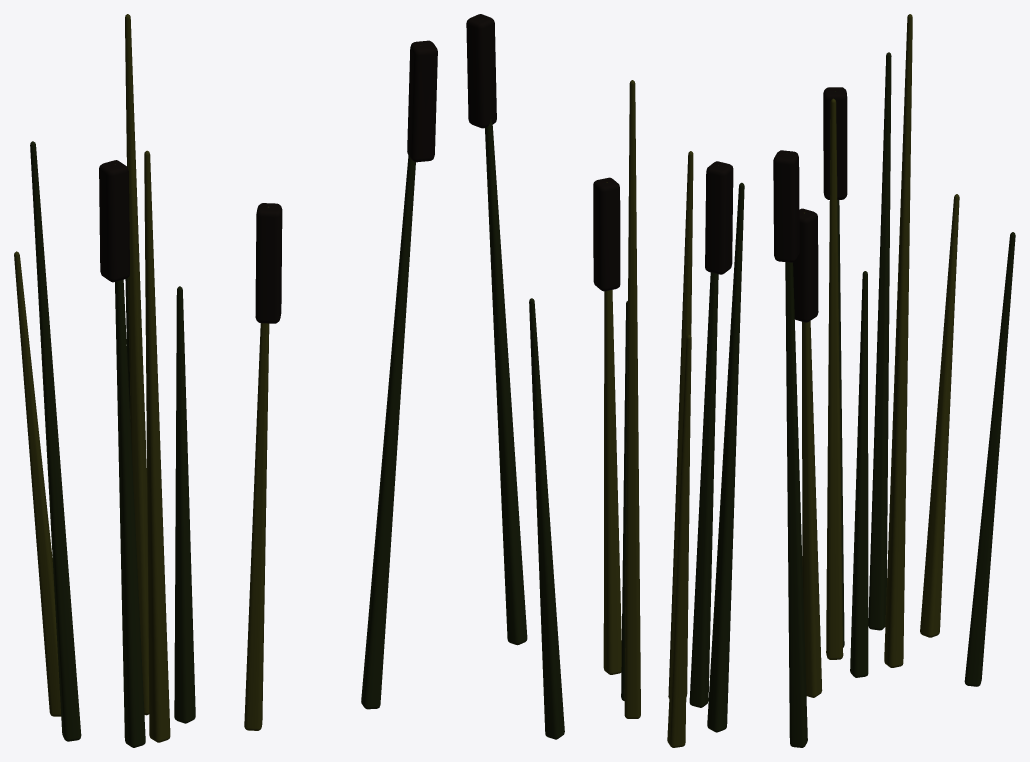
The model's file is Junco.fbx.
3 renders of one model, left to right at view 1: azimuth 30°, elevation 25°; view 2: azimuth 150°, elevation 25°; view 3: azimuth 270°, elevation 25°, orthographic. The views are drawn at different scales.
Parts seen in each view (by area): view 1: Junco; view 2: Junco; view 3: Junco.
Boxes of the visible parts, left/top/right/bottom form: Junco: left=14, top=14, right=437, bottom=747; Junco: left=466, top=14, right=744, bottom=747; Junco: left=773, top=14, right=1015, bottom=747.
Bounding box in the file's own units: 0.8082 × 1.53 × 0.5185.
